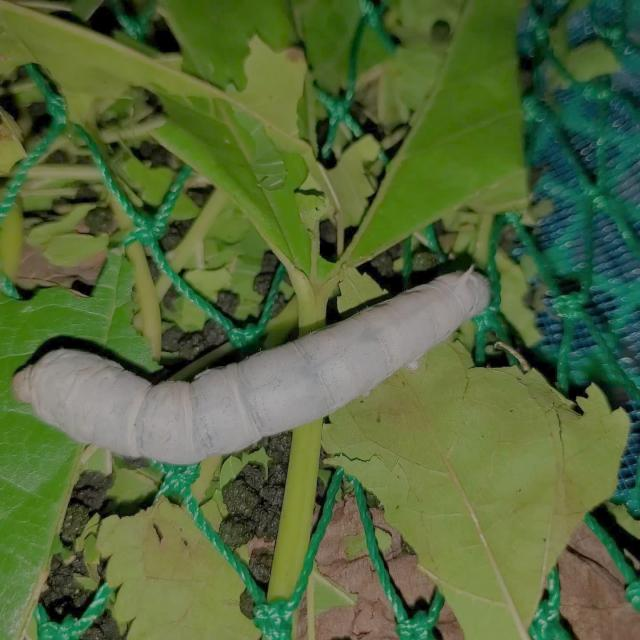Healthy: (4, 257, 542, 474)
